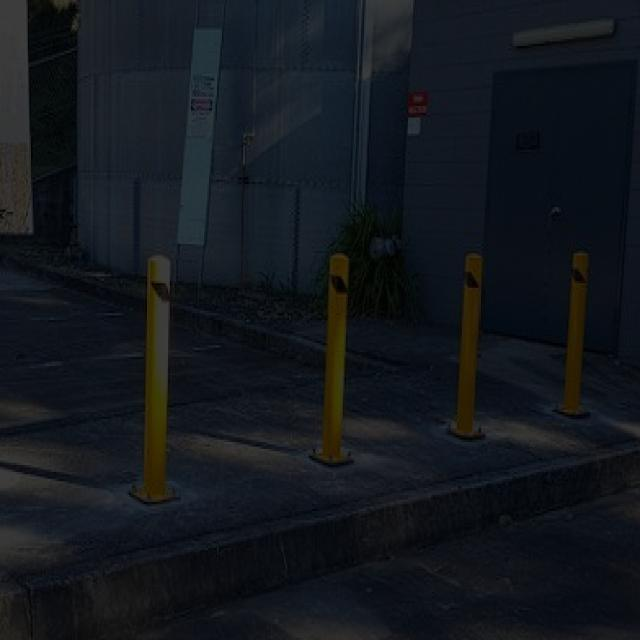obstacle: (138, 250, 176, 500), (318, 250, 352, 462), (456, 246, 486, 442), (560, 244, 593, 422)
